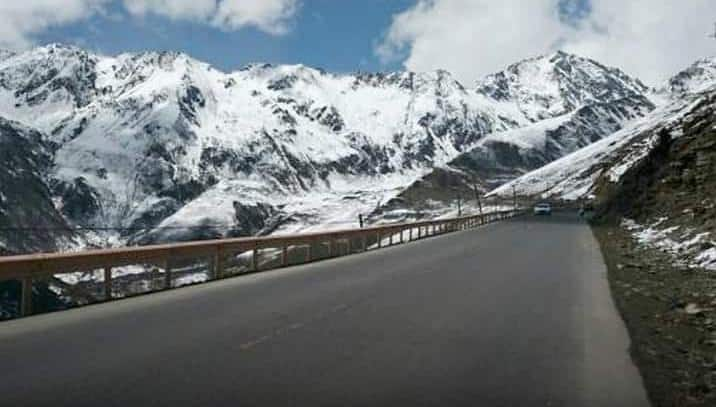straightRoad: (332, 215, 605, 407)
